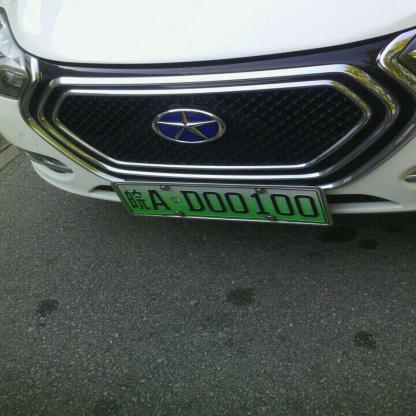lp: (118, 185, 326, 221)
